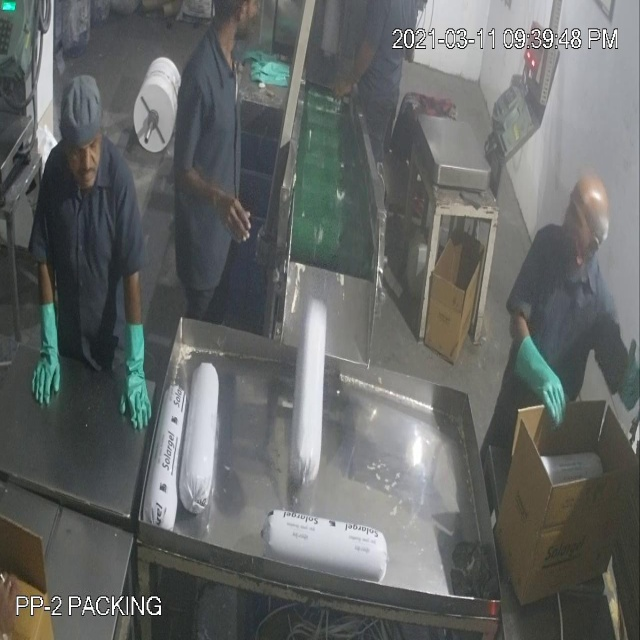Guantes: (14, 281, 73, 426), (112, 317, 160, 444), (516, 332, 566, 435), (610, 329, 640, 411)
Sin_guantes: (169, 151, 250, 255), (329, 34, 376, 109)
